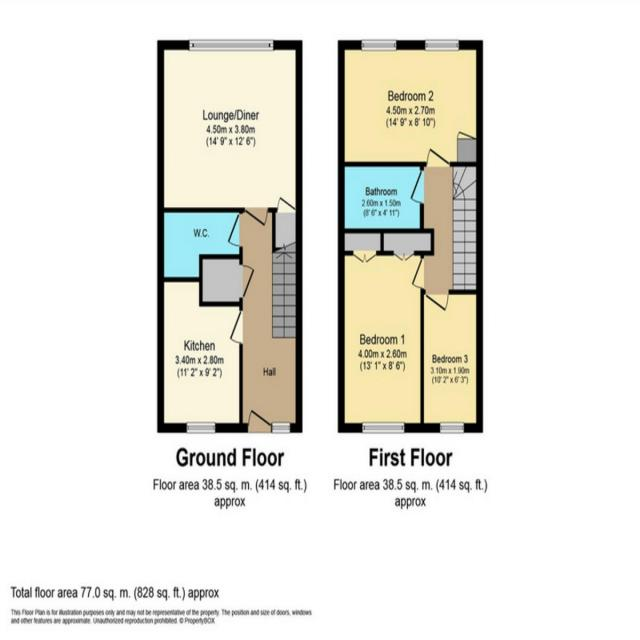DOOR: (247, 407, 272, 433), (424, 289, 450, 313), (226, 212, 243, 248), (228, 309, 244, 346), (409, 168, 424, 205), (244, 207, 269, 228), (426, 147, 452, 167), (410, 257, 424, 290)
ROOM: (157, 39, 303, 228), (338, 228, 435, 433), (338, 40, 483, 167), (157, 277, 243, 433), (419, 289, 483, 433)
WINDOW: (188, 38, 275, 52), (361, 421, 405, 434), (361, 39, 397, 52), (424, 39, 459, 51), (186, 421, 216, 434), (439, 421, 465, 434), (272, 421, 291, 434)
